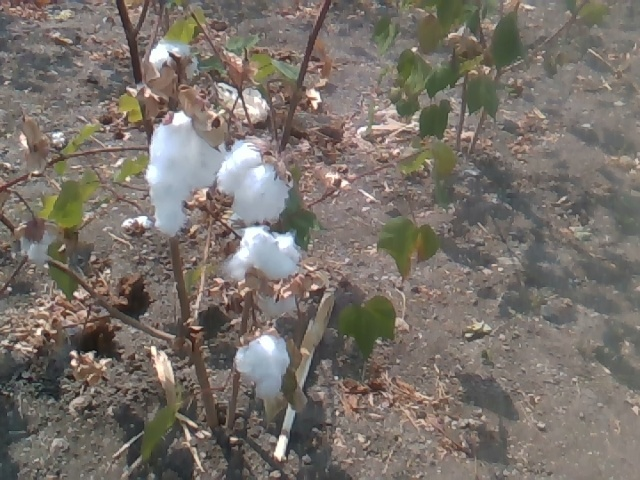cotton: (146, 108, 221, 239), (207, 142, 301, 226), (222, 220, 313, 296), (229, 324, 297, 402), (138, 33, 200, 94), (11, 222, 55, 270)
